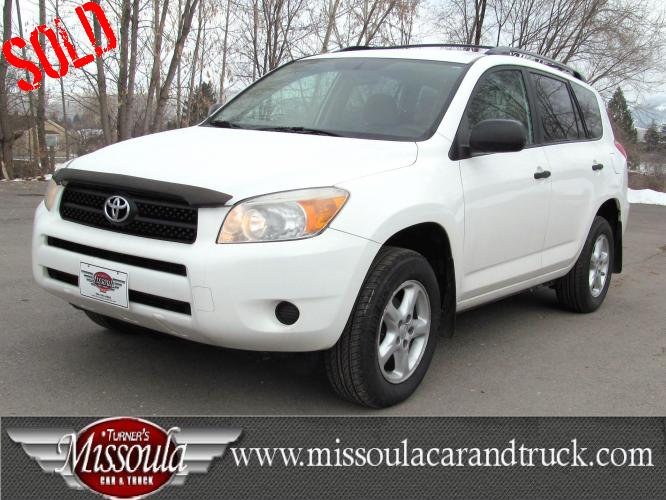Toyota RAV-4: (29, 46, 631, 409)
